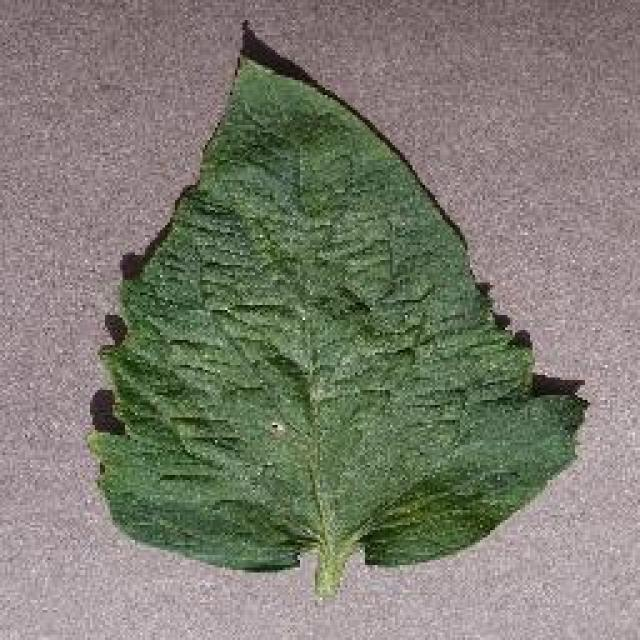Tom_Target_Spot: (238, 325, 372, 500)
